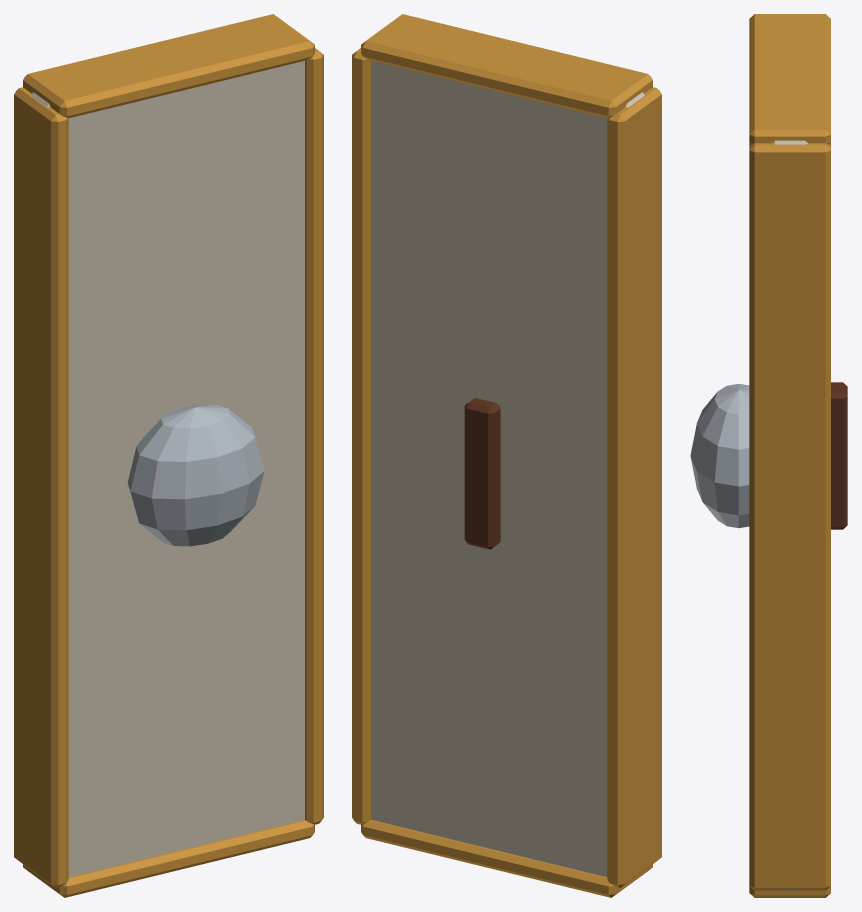
Rendered from roman-shield.glb.
The picture shows the model from 3 angles, left to right: view 1: azimuth 30°, elevation 25°; view 2: azimuth 150°, elevation 25°; view 3: azimuth 270°, elevation 25°; orthographic projection. The views are drawn at different scales.
Parts seen in each view (by area): view 1: Scutum_Customizable_Face, Scutum_Rim_V_-9.4, Scutum_Boss, Scutum_Rim_V_9.4, Scutum_Rim_H_27.4, Scutum_Rim_H_-27.4; view 2: Scutum_Customizable_Face, Scutum_Rim_V_-9.4, Scutum_Rim_V_9.4, Scutum_Rim_H_27.4, Scutum_Arm_Brace, Scutum_Rim_H_-27.4; view 3: Scutum_Rim_V_9.4, Scutum_Rim_H_27.4, Scutum_Boss, Scutum_Arm_Brace, Scutum_Rim_H_-27.4.
Part boxes in pixels (x1,y1,x2,y2): Scutum_Customizable_Face: (31,61,304,877); Scutum_Rim_V_-9.4: (14,87,68,887); Scutum_Boss: (127,404,264,546); Scutum_Rim_V_9.4: (305,48,323,824); Scutum_Rim_H_27.4: (23,14,314,118); Scutum_Rim_H_-27.4: (23,820,314,897); Scutum_Customizable_Face: (371,61,644,877); Scutum_Rim_V_-9.4: (607,87,661,887); Scutum_Rim_V_9.4: (352,48,370,824); Scutum_Rim_H_27.4: (361,14,652,118); Scutum_Arm_Brace: (464,398,500,549); Scutum_Rim_H_-27.4: (361,820,652,897); Scutum_Rim_V_9.4: (749,143,830,890); Scutum_Rim_H_27.4: (749,14,830,144); Scutum_Boss: (690,383,749,528); Scutum_Arm_Brace: (831,382,847,529); Scutum_Rim_H_-27.4: (749,886,830,897).
Size of the model in its own units: 20.1 by 56.1 by 10.4.
